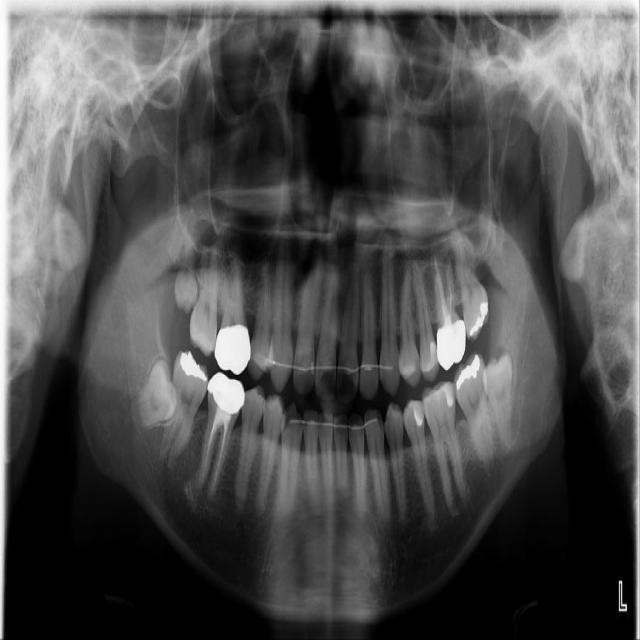3M ESPE Implant: (171, 207, 200, 315)
52: (196, 367, 253, 424), (210, 316, 258, 377), (168, 348, 213, 411), (417, 377, 464, 429), (454, 351, 487, 413), (435, 316, 467, 373), (462, 288, 490, 343), (419, 337, 441, 381), (402, 398, 426, 437)
73: (192, 411, 236, 503), (427, 253, 462, 329), (612, 586, 618, 596)
BioHorizons Implant: (427, 252, 469, 372)
BioLife Implant: (449, 222, 494, 343)
Biomet 3i Implant: (482, 352, 512, 448)
Blue Sky Bio Implant: (449, 349, 499, 478)
Caries: (187, 241, 224, 360)
Implant: (157, 349, 214, 473)
Keystone Dental Implant: (122, 356, 196, 440)
